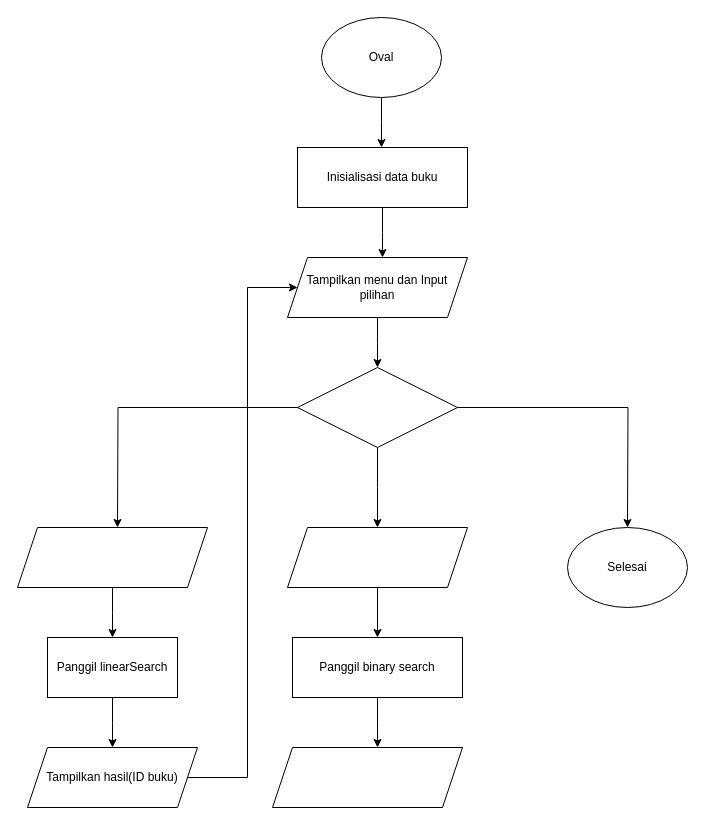
Image size: 705x825. Some labels were removed from this diagram. The shapes that lost their labels are listed below. From the top down, each one's centre as x and y in pixels, then its label:
point 377,407: Pilihan 3=keluar?
point 112,557: Input nama buku yang dicari
point 377,557: Input ID buku yang dicari
point 367,777: Tampilkan hasil(nama buku)
